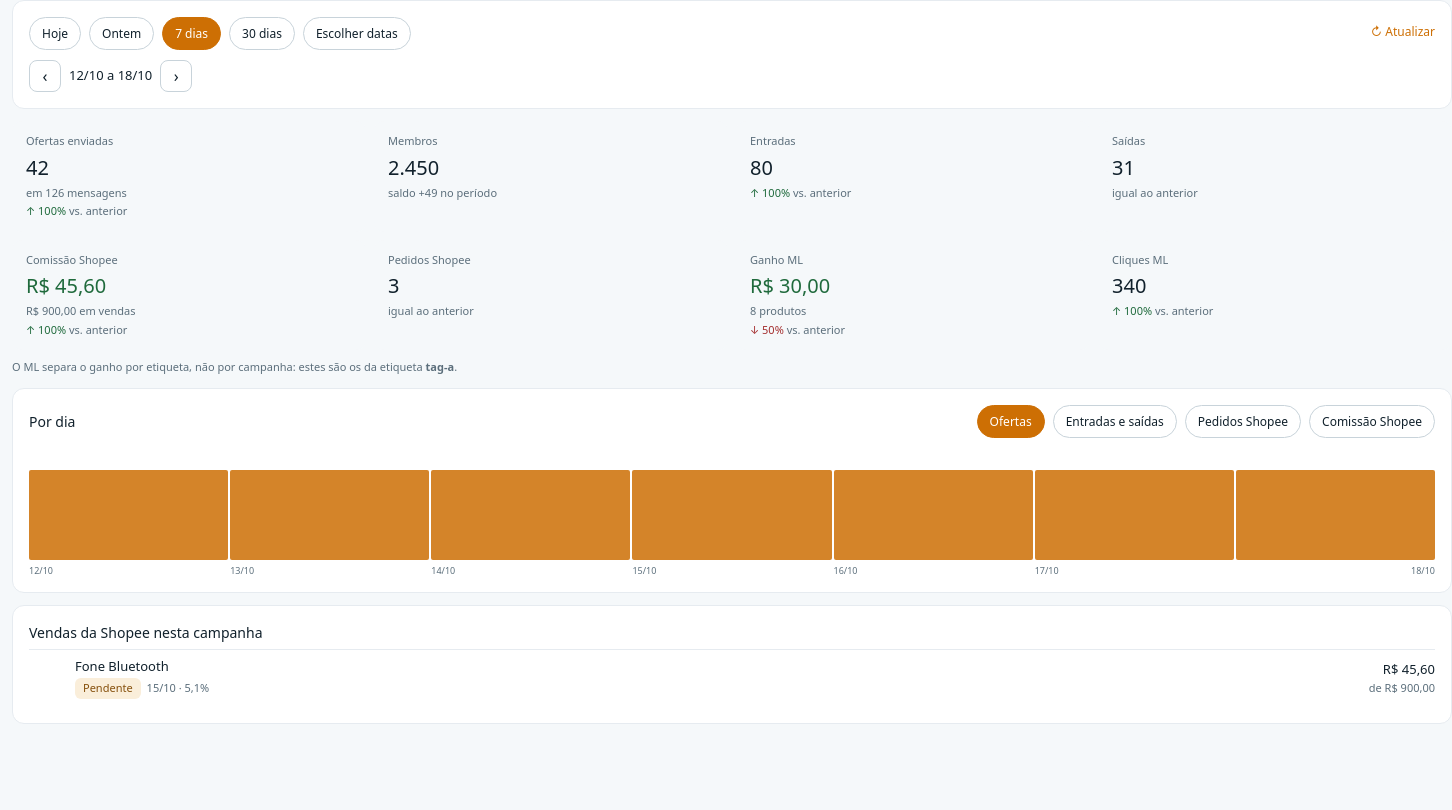
DesempenhoCampanha › 'Hoje' não pergunta ao ML (ele só fecha o dia seguinte) e avisa
Expected: the text "42" is shown, [26,154,49,180]
Click the button "Hoje".
click(55, 34)  # box [29,17,81,50]
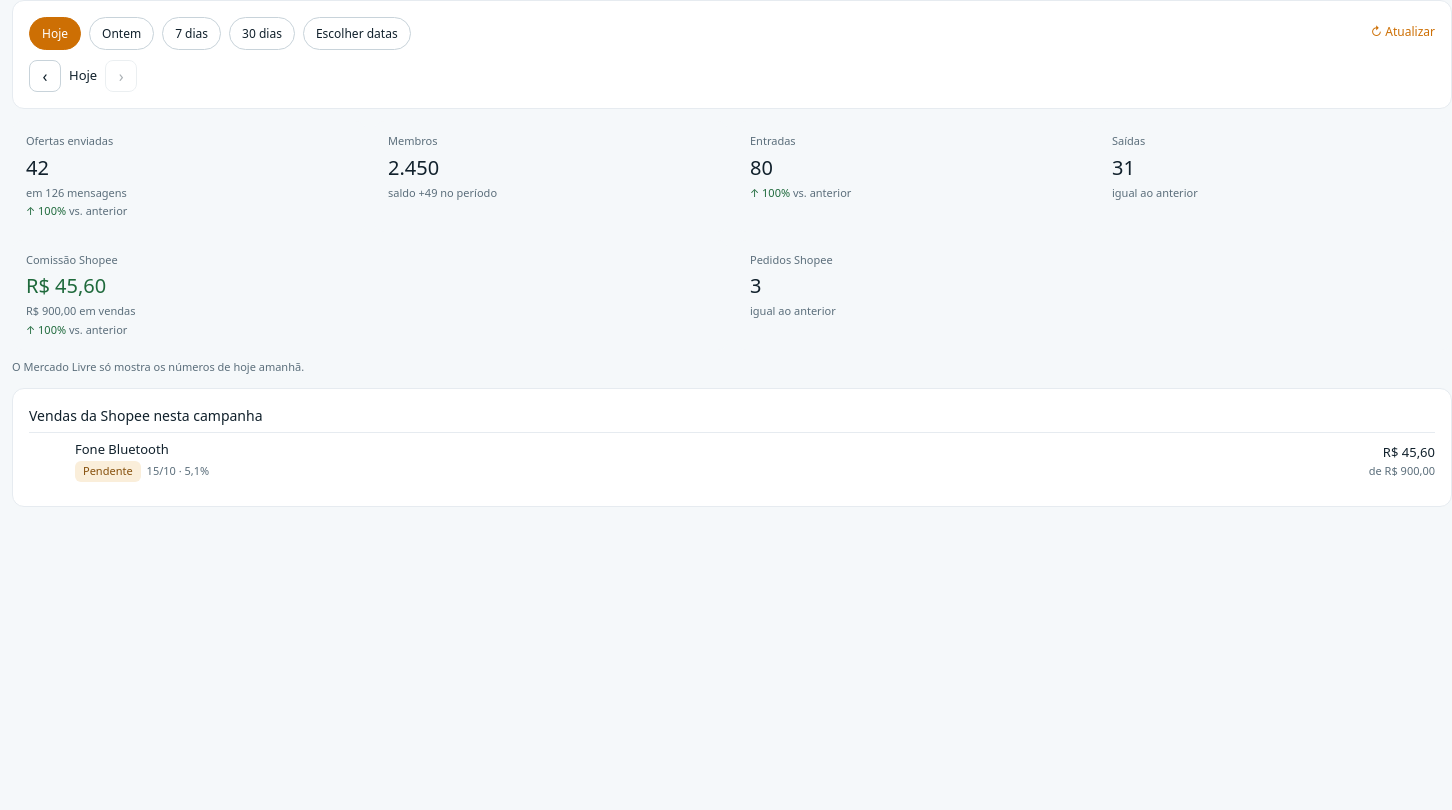
Now the text "O Mercado Livre só mostra os números de hoje amanhã." is shown, box [12,359,304,374]
